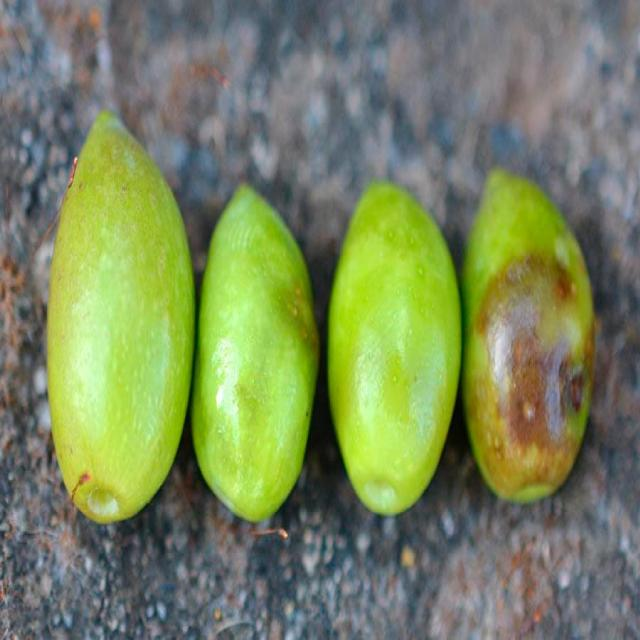Healthy: (47, 111, 193, 522), (328, 183, 461, 515), (191, 186, 319, 521)
Olive Fruit Fly: (462, 170, 594, 500)
